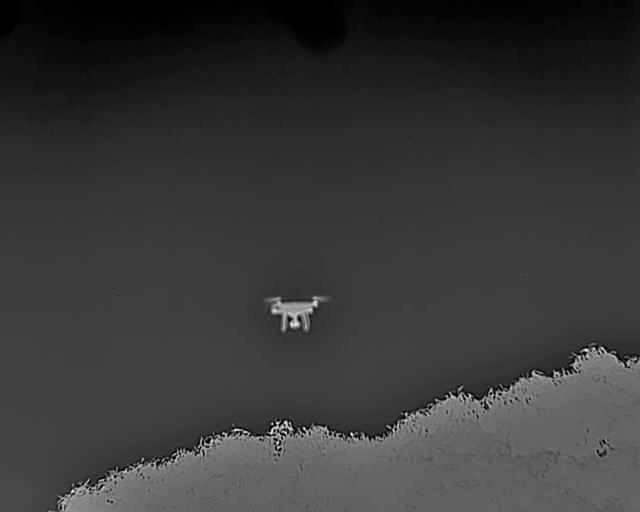DJI-Phantom: (265, 294, 331, 333)
